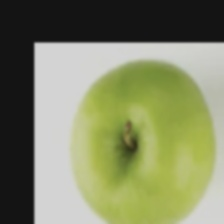apple: (49, 22, 205, 181)
